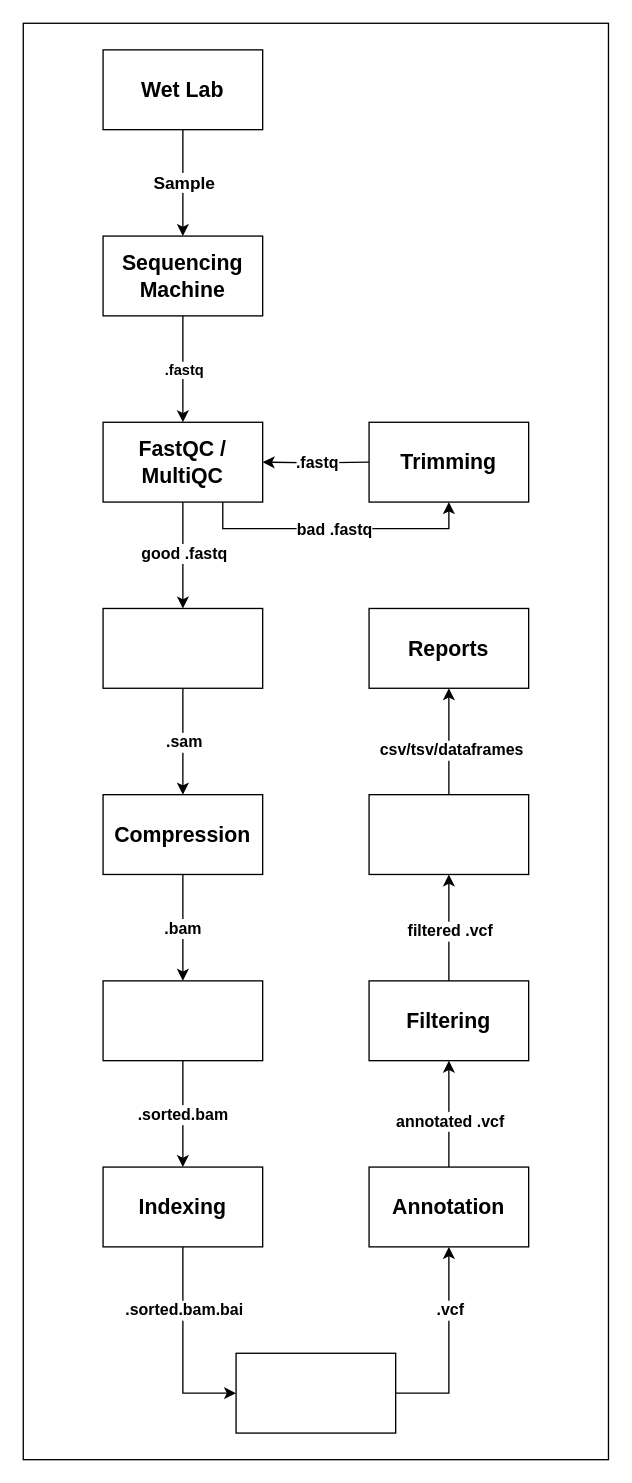
This 632x1483 diagram has some shape labels left out. The box of each missing label's shape, as (x1, y1, x2, y2) in pixels:
Alignment: (102, 607, 263, 688)
Prioritization: (368, 793, 529, 874)
Sorting: (102, 980, 263, 1061)
Variant Calling: (235, 1352, 396, 1433)
